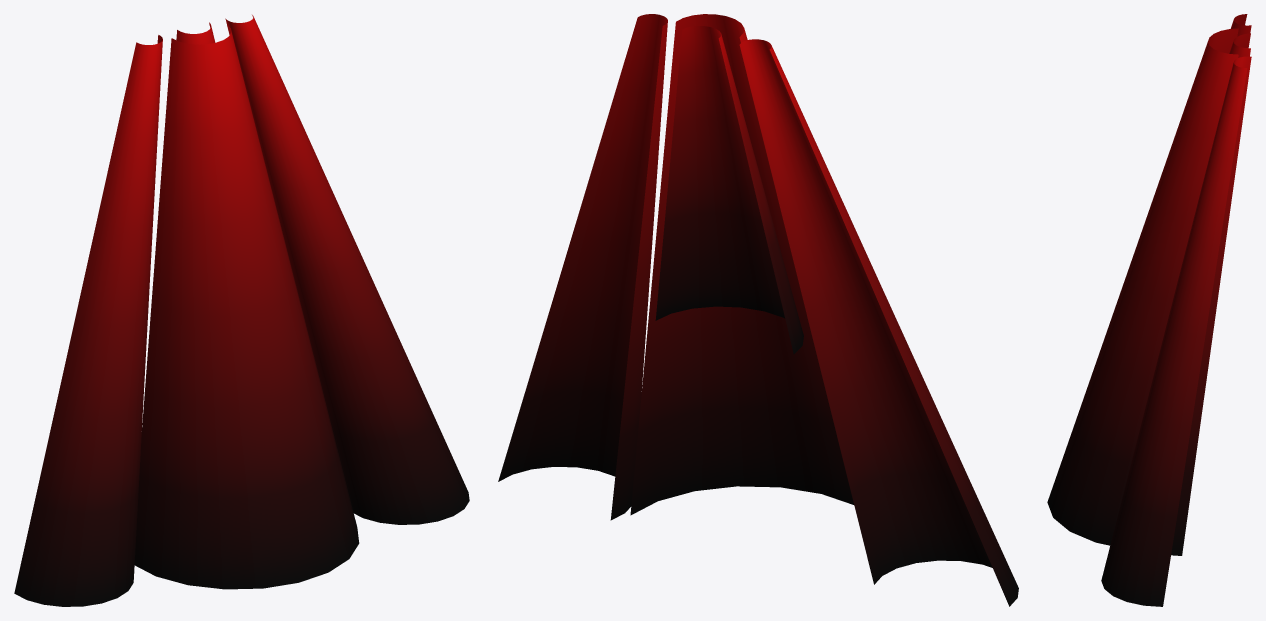
The model's file is GodRays.fbx.
3 renders of one model, left to right at view 1: azimuth 30°, elevation 25°; view 2: azimuth 150°, elevation 25°; view 3: azimuth 270°, elevation 25°, orthographic. The views are drawn at different scales.
Visible parts, largest first — view 1: GodRays; view 2: GodRays; view 3: GodRays.
Boxes of the visible parts, x1=… form: GodRays: x1=14, y1=15, x2=469, y2=606; GodRays: x1=498, y1=14, x2=1018, y2=606; GodRays: x1=1047, y1=14, x2=1251, y2=606.
Bounding box in the file's own units: 18.17 × 18.62 × 7.47.
